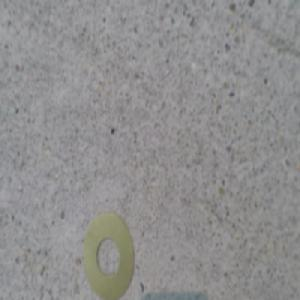Washer: (83, 210, 135, 298)
